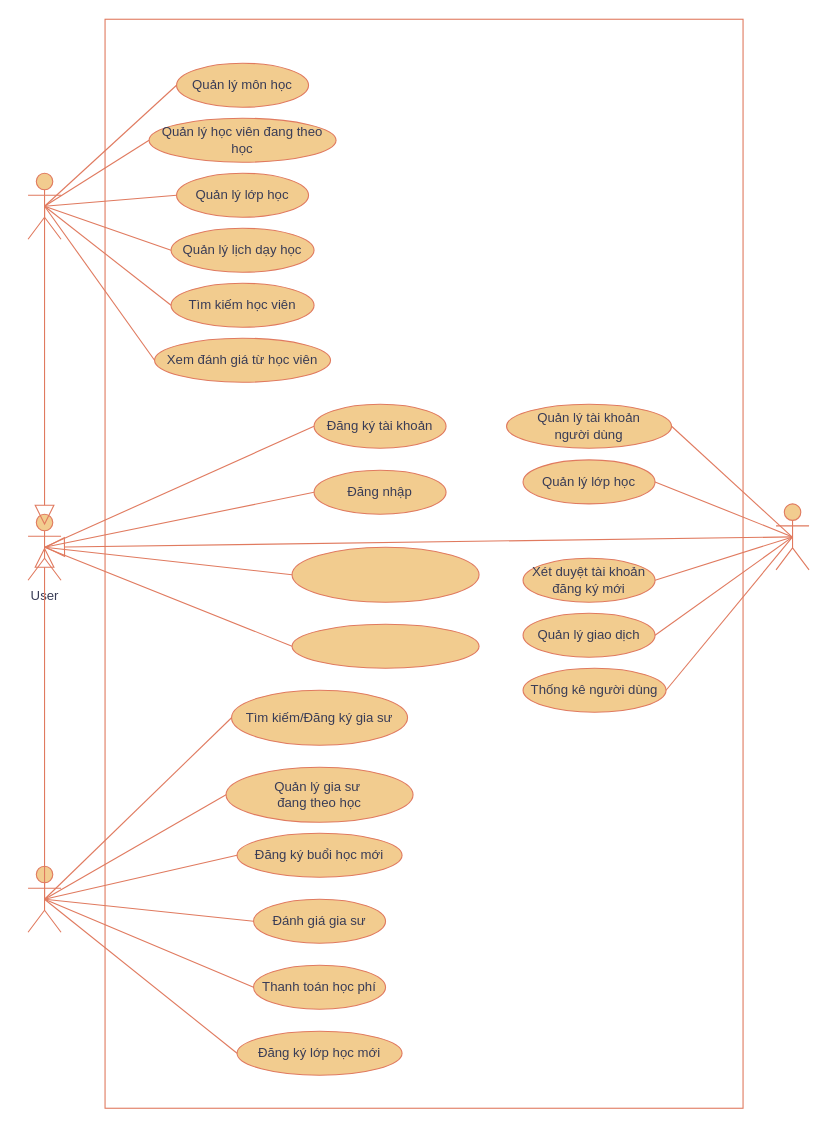
Image size: 832x1128. Some labels were removed from this diagram. The centre of each missing label's shape, as x and y in pixels:
Admin: the point at 792,536
Chỉnh sửa thông tin cá nhân: the point at 385,574
Gia sư: the point at 44,205
Học viên: the point at 44,898
Thay đổi/ khôi phuc mật khẩu: the point at 385,645
